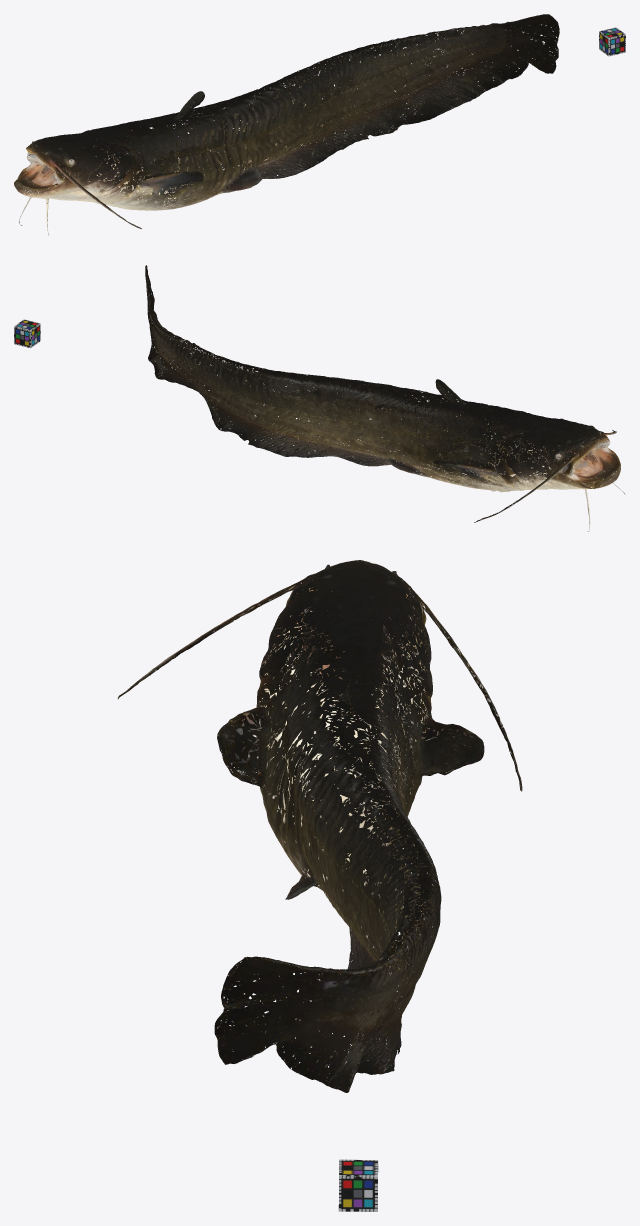
Rendered from scan_amur_catfish.glb.
3 renders of one model, top to bottom at view 1: azimuth 30°, elevation 25°; view 2: azimuth 150°, elevation 25°; view 3: azimuth 270°, elevation 25°, orthographic. The views are drawn at different scales.
Parts seen in each view (by area): view 1: Object_6, Object_12, Object_4; view 2: Object_12, Object_6, Object_4; view 3: Object_6, Object_12, Object_4.
Part boxes in pixels (box(x1,y1,x2,y2)): Object_6: box(17, 15, 559, 229); Object_12: box(14, 14, 559, 235); Object_4: box(599, 27, 625, 56); Object_12: box(145, 265, 625, 531); Object_6: box(145, 266, 620, 526); Object_4: box(14, 319, 40, 348); Object_6: box(117, 568, 521, 1091); Object_12: box(118, 560, 522, 1092); Object_4: box(338, 1159, 378, 1211).
Bounding box in the file's own units: 13.15 × 2.57 × 3.86.
3 materials, 3 textured.
